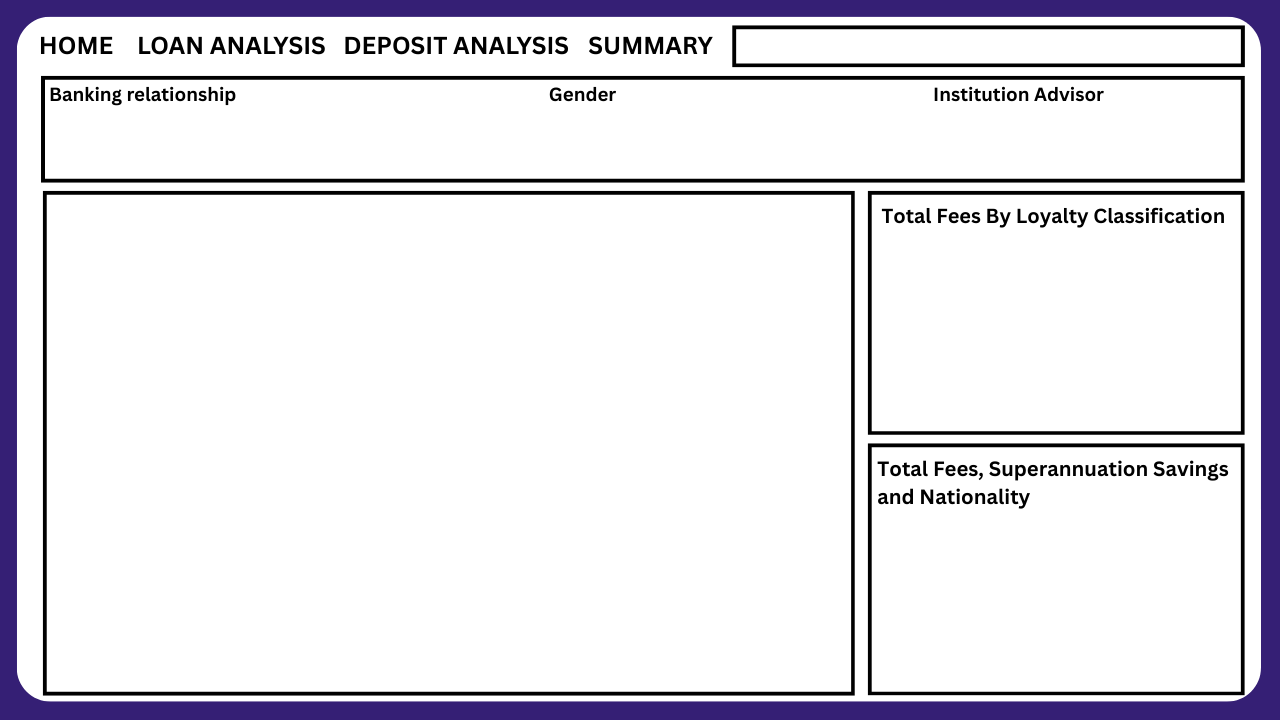

The dashboard page shown, as its layout file describes it:
{"tool":"powerbi","page":{"name":"Drill Through","canvas":[1280,720],"ordinal":4},"visuals":[{"type":"slicer","fields":{"Values":["banking_case customer.Year Of Joining"]},"box":[717.5,20,540,42.5],"z":0},{"type":"actionButton","box":[24,20,98,42],"z":1000},{"type":"actionButton","box":[334,22,238,40],"z":2000},{"type":"actionButton","box":[136,22,182,42],"z":3000},{"type":"slicer","fields":{"Values":["banking_case customer.BRId"]},"box":[46,106,412,50],"z":4000},{"type":"slicer","fields":{"Values":["banking_case customer.GenderId"]},"box":[470,108,360,50],"z":5000},{"type":"slicer","fields":{"Values":["banking_case customer.IAId"]},"box":[860,106,360,46],"z":6000},{"type":"clusteredColumnChart","fields":{"Category":["banking_case customer.Loyalty Classification"],"Y":["banking_case customer.total fees"]},"box":[871.7,208.3,363.3,218.3],"z":6001},{"type":"columnChart","fields":{"Category":["banking_case customer.Nationality"],"Y":["banking_case customer.total fees"]},"box":[871.7,495,363.3,188.3],"z":6002},{"type":"tableEx","fields":{"Values":["banking_case customer.Name","banking_case customer.Banking Contact","banking_case customer.Superannuation Savings","banking_case customer.total fees","banking_case customer.Amount of Credit Cards","banking_case customer.Credit Card Balance"]},"box":[46.7,195,801.7,488.3],"z":6003},{"type":"actionButton","box":[0,0,46.7,40],"z":6004},{"type":"actionButton","box":[581.7,23.3,135,40],"z":6005}]}

Visuals, with their boxes in screenshot pixels (x1, y1, x2, y2), scaled from the page's 1280x720 canvas onto the 1280x720 screenshot:
slicer - banking_case customer.Year Of Joining: box=[718, 20, 1258, 62]
actionButton: box=[24, 20, 122, 62]
actionButton: box=[334, 22, 572, 62]
actionButton: box=[136, 22, 318, 64]
slicer - banking_case customer.BRId: box=[46, 106, 458, 156]
slicer - banking_case customer.GenderId: box=[470, 108, 830, 158]
slicer - banking_case customer.IAId: box=[860, 106, 1220, 152]
clusteredColumnChart - banking_case customer.Loyalty Classification x banking_case customer.total fees: box=[872, 208, 1235, 427]
columnChart - banking_case customer.Nationality x banking_case customer.total fees: box=[872, 495, 1235, 683]
tableEx - banking_case customer.Name x banking_case customer.Banking Contact: box=[47, 195, 848, 683]
actionButton: box=[0, 0, 47, 40]
actionButton: box=[582, 23, 717, 63]
